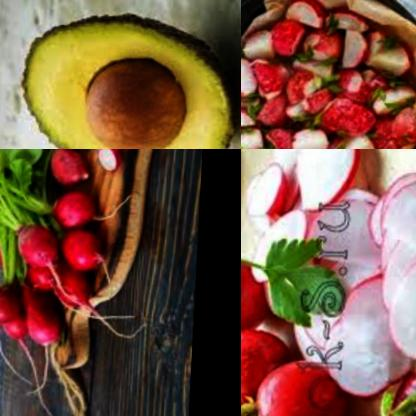avocado: (0, 4, 241, 149)
rediska: (300, 196, 416, 396), (241, 0, 416, 93), (359, 175, 416, 358), (242, 208, 307, 304), (284, 149, 363, 217), (241, 149, 310, 226), (253, 366, 358, 416), (241, 326, 297, 403), (20, 258, 95, 313), (14, 276, 68, 351), (375, 182, 416, 258), (241, 259, 273, 342), (61, 223, 114, 271), (16, 217, 64, 269), (50, 187, 101, 229), (241, 55, 261, 149), (367, 76, 416, 113), (45, 149, 94, 185), (380, 367, 416, 416), (69, 149, 147, 170), (2, 308, 34, 345), (0, 281, 25, 328), (286, 125, 334, 149), (329, 128, 382, 149)
